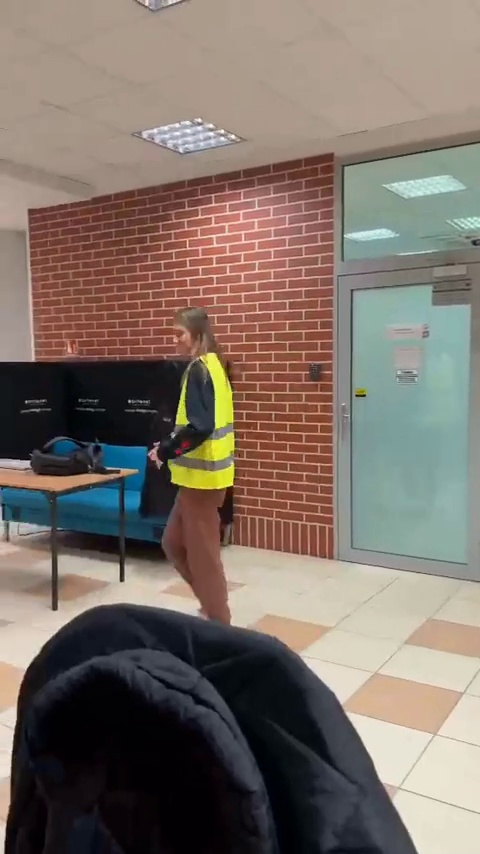vest: (155, 309, 246, 629)
